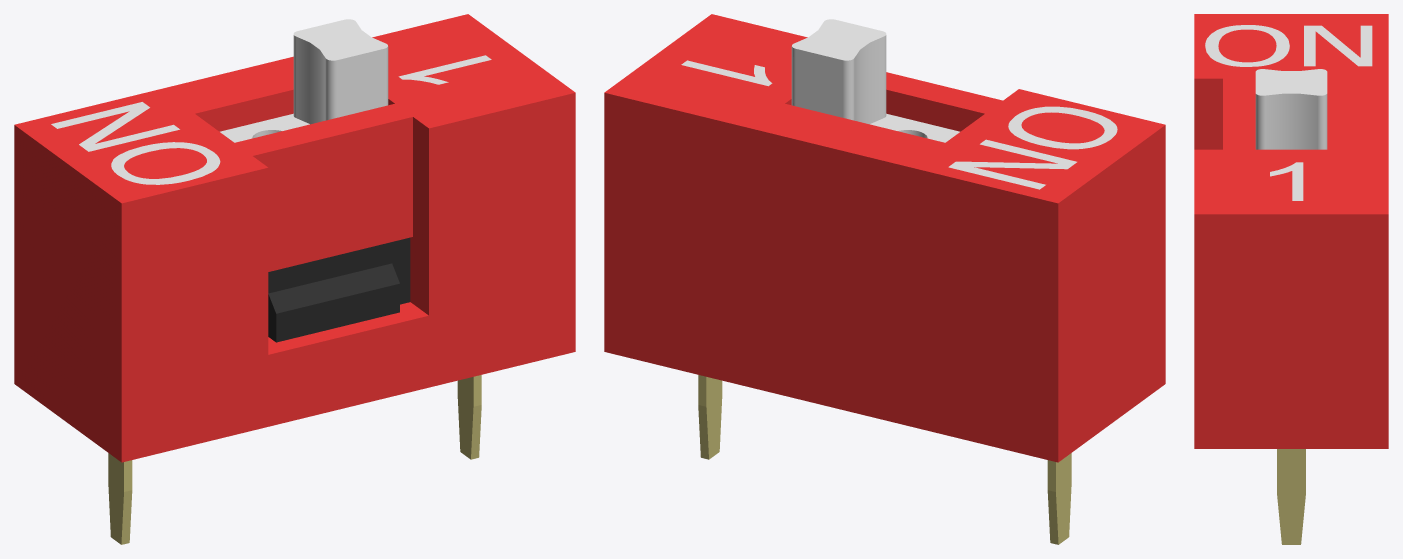
3 renders of one model, left to right at view 1: azimuth 30°, elevation 25°; view 2: azimuth 150°, elevation 25°; view 3: azimuth 270°, elevation 25°, orthographic. The views are drawn at different scales.
Parts seen in each view (by area): view 1: =>[0:1:1:3], =>[0:1:1:2]; view 2: =>[0:1:1:3], =>[0:1:1:2]; view 3: =>[0:1:1:3], =>[0:1:1:2].
Part boxes in pixels (x1,y1,x2,y2): =>[0:1:1:3]: [14, 14, 575, 544]; =>[0:1:1:2]: [51, 55, 491, 184]; =>[0:1:1:3]: [604, 14, 1165, 544]; =>[0:1:1:2]: [681, 60, 1117, 189]; =>[0:1:1:3]: [1194, 14, 1388, 544]; =>[0:1:1:2]: [1205, 25, 1372, 200].
Size of the model in its own units: 0.0099 by 0.0093 by 0.00406.
